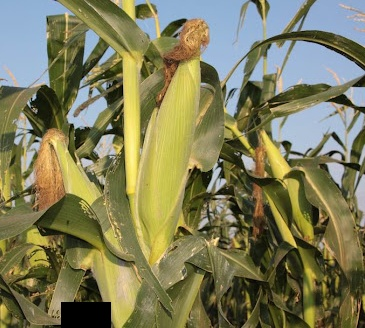corn_plant: (32, 126, 141, 328), (136, 14, 213, 261)
